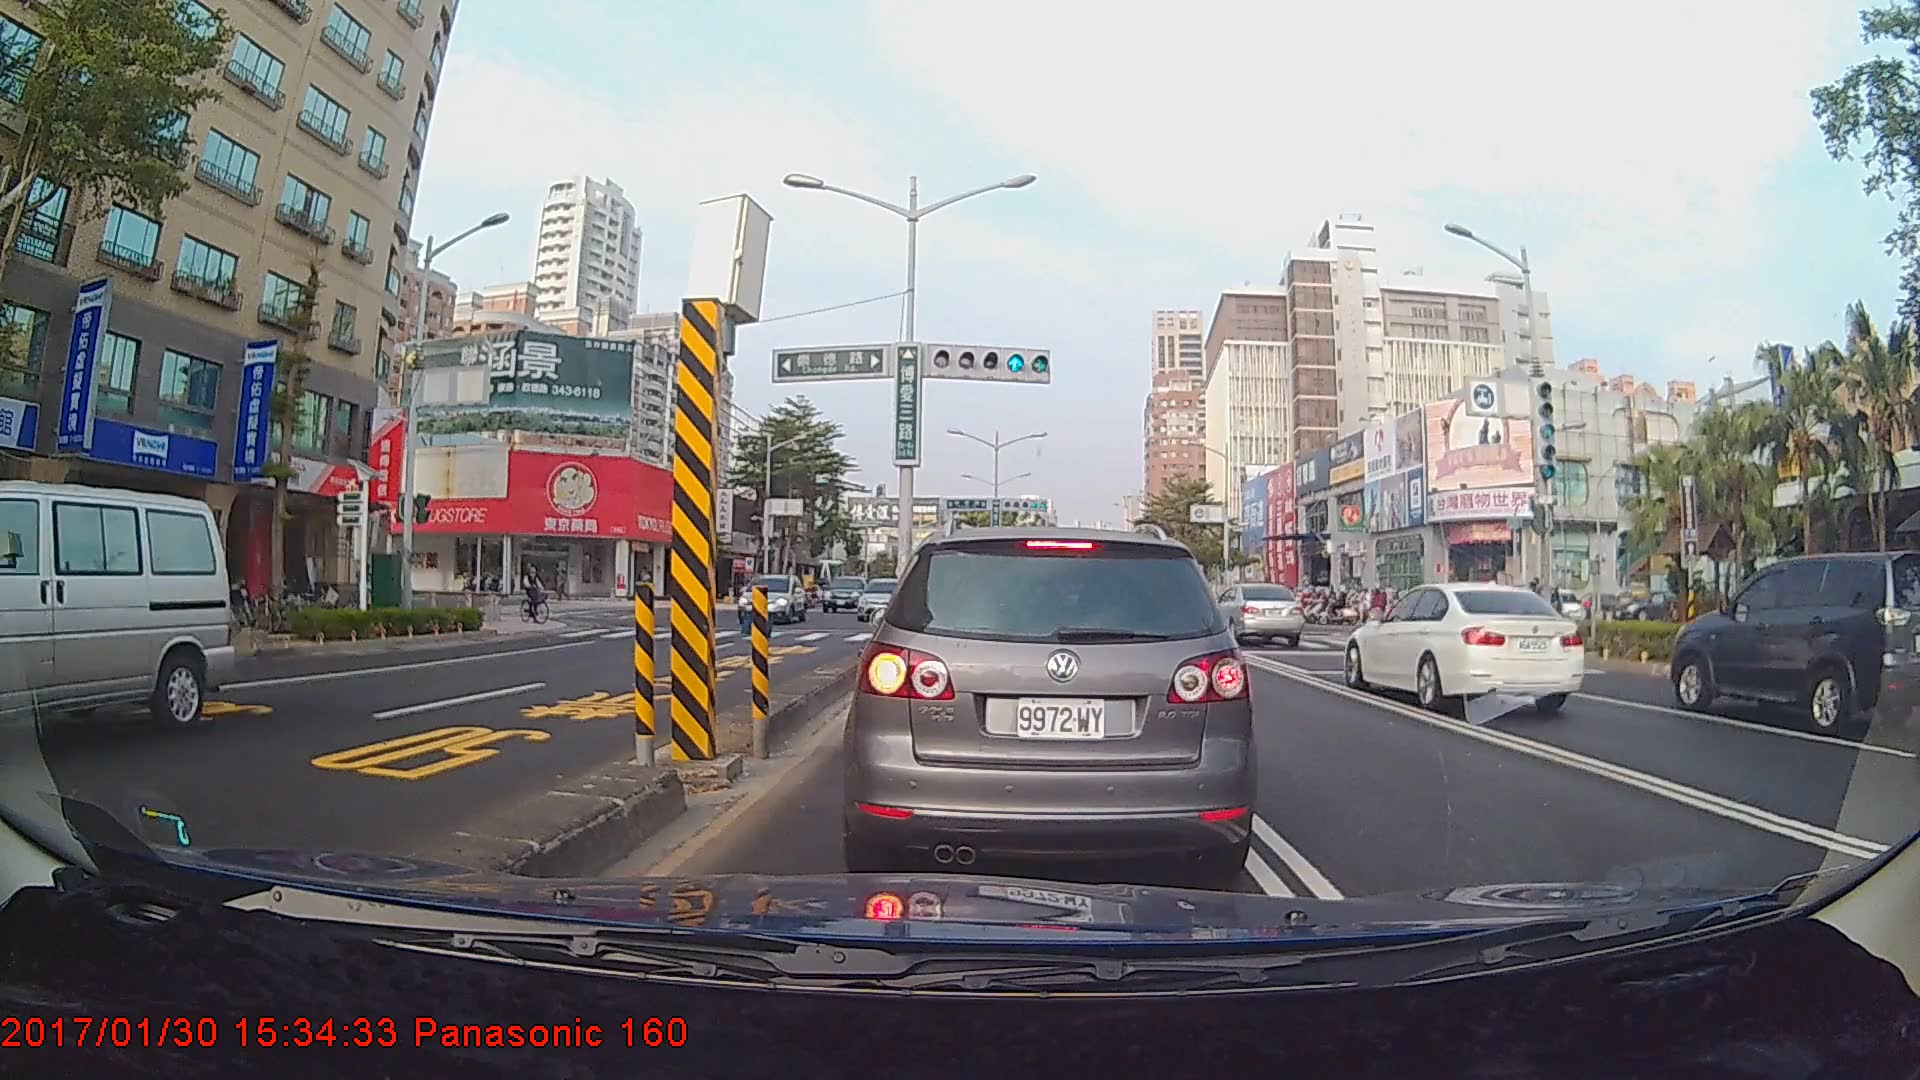rider: (518, 559, 561, 629)
vehicle: (855, 521, 1250, 877), (0, 478, 237, 752), (1671, 552, 1919, 735), (1337, 580, 1586, 715), (1203, 580, 1305, 647), (734, 573, 806, 625), (856, 575, 915, 620), (821, 576, 867, 613)
